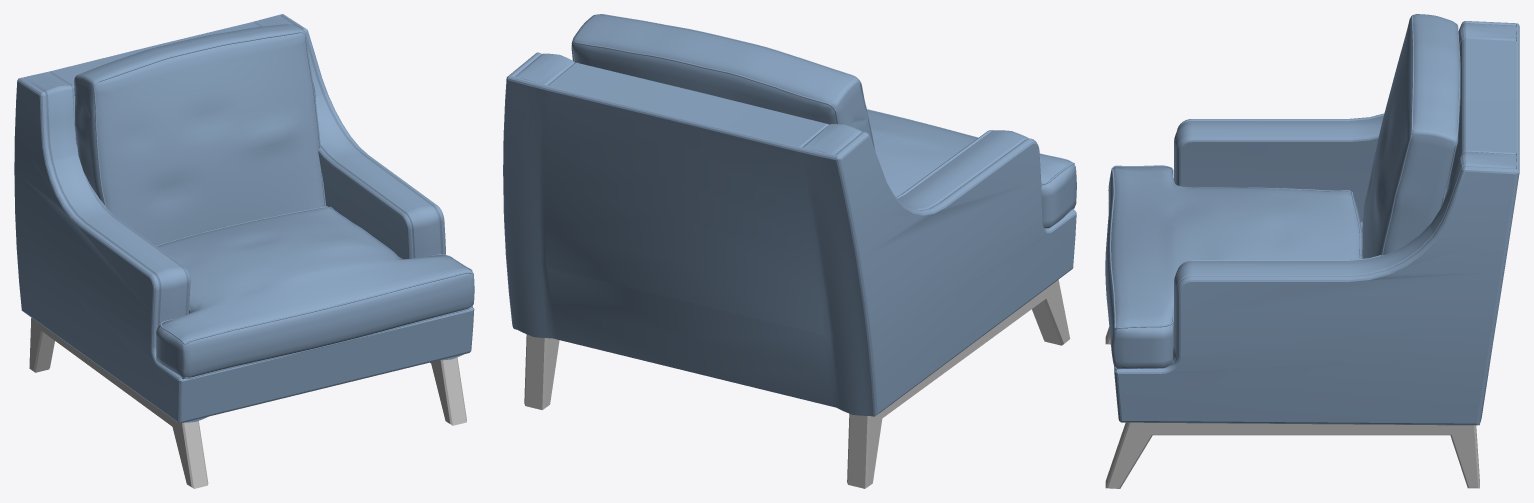
Rendered from chair.glb.
The picture shows the model from 3 angles, left to right: view 1: azimuth 30°, elevation 25°; view 2: azimuth 150°, elevation 25°; view 3: azimuth 270°, elevation 25°; orthographic projection. The views are drawn at different scales.
Visible parts, largest first — view 1: buffer-0-mesh-0_1_1, buffer-0-mesh-0_0; view 2: buffer-0-mesh-0_1_1, buffer-0-mesh-0_0; view 3: buffer-0-mesh-0_1_1, buffer-0-mesh-0_0.
Boxes of the visible parts, x1=… form: buffer-0-mesh-0_1_1: x1=14, y1=14, x2=474, y2=423; buffer-0-mesh-0_0: x1=29, y1=318, x2=466, y2=488; buffer-0-mesh-0_1_1: x1=503, y1=14, x2=1076, y2=416; buffer-0-mesh-0_0: x1=524, y1=279, x2=1070, y2=488; buffer-0-mesh-0_1_1: x1=1105, y1=14, x2=1519, y2=425; buffer-0-mesh-0_0: x1=1105, y1=327, x2=1479, y2=488.
Bounding box in the file's own units: 0.3271 × 0.323 × 0.3447.
